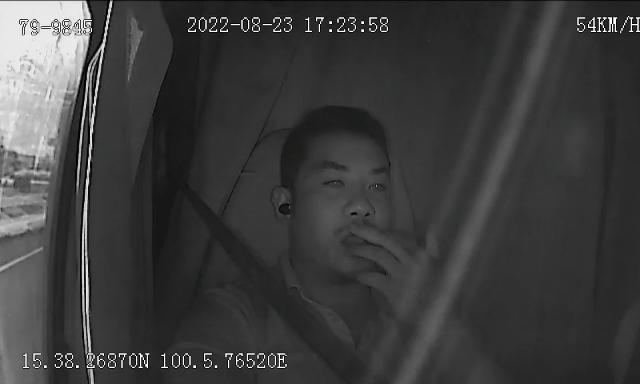SafeDriving: (264, 186, 302, 228), (362, 168, 393, 195)
Seatbelt: (177, 176, 367, 378)
